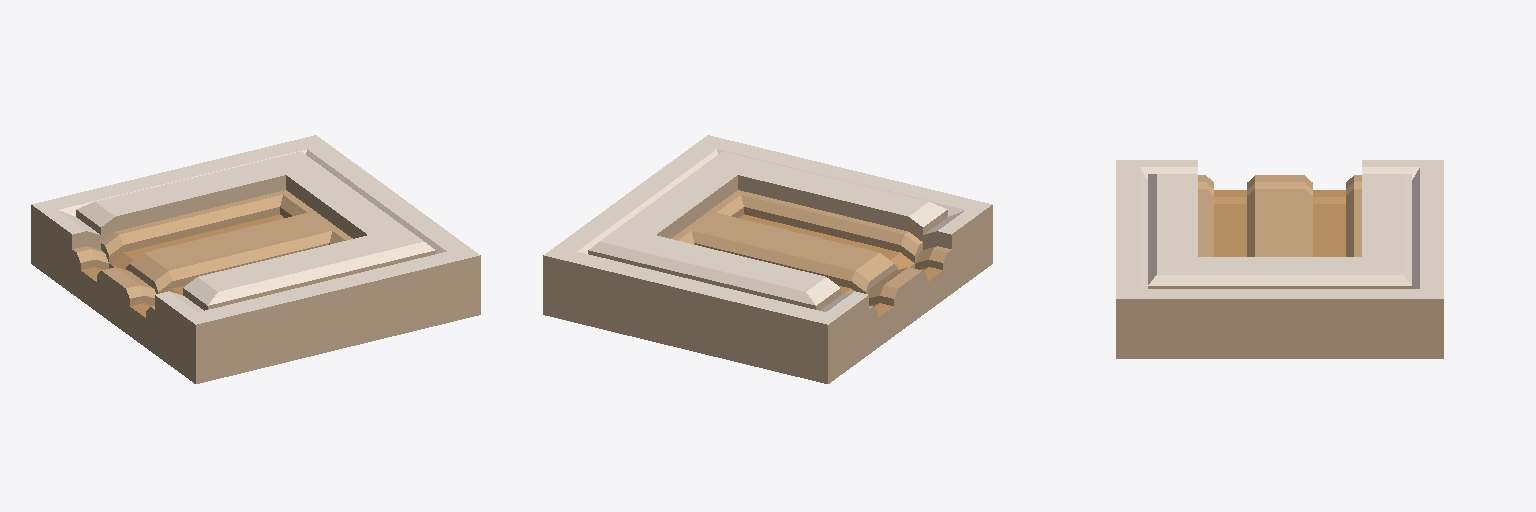
The model's file is Puzzle_Track_Button_End.obj.
3 renders of one model, left to right at view 1: azimuth 30°, elevation 25°; view 2: azimuth 150°, elevation 25°; view 3: azimuth 270°, elevation 25°, orthographic.
Parts seen in each view (by area): view 1: object2, object1; view 2: object2, object1; view 3: object2, object1.
Part boxes in pixels (left/top/right/bottom): object2: left=31, top=135, right=480, bottom=383; object1: left=76, top=151, right=435, bottom=310; object2: left=543, top=135, right=992, bottom=383; object1: left=588, top=151, right=947, bottom=310; object2: left=1116, top=160, right=1443, bottom=358; object1: left=1148, top=174, right=1411, bottom=288.
Size of the model in its own units: 1 by 0.225 by 1.